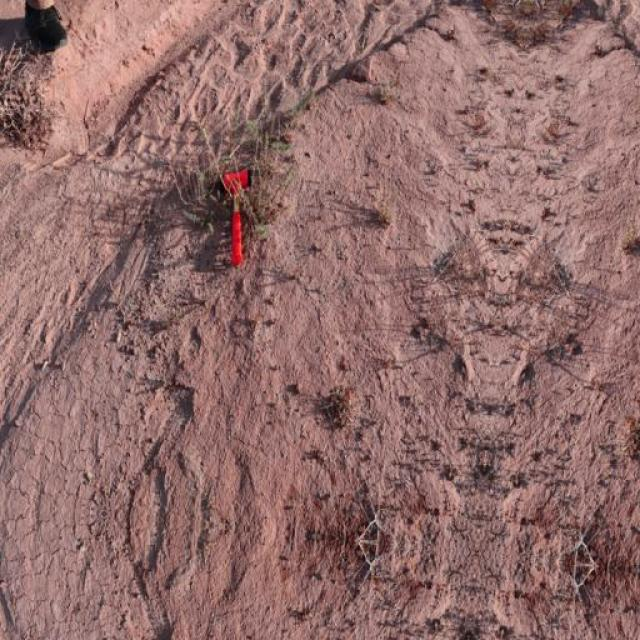mallet: (220, 166, 250, 266)
